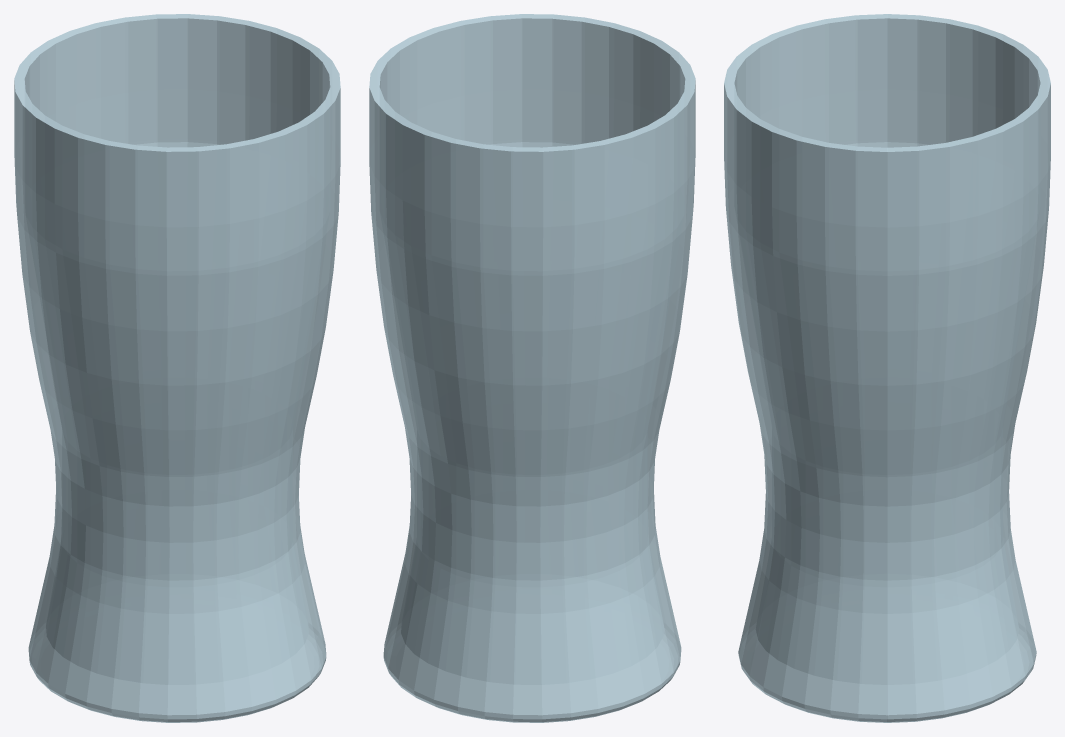
File: PintCup.dae
3 views of the same model, side by side, from view 1: azimuth 30°, elevation 25°; view 2: azimuth 150°, elevation 25°; view 3: azimuth 270°, elevation 25° (orthographic).
Visible parts, largest first — view 1: Cylinder.005; view 2: Cylinder.005; view 3: Cylinder.005.
Boxes of the visible parts, left/top/right/bottom form: Cylinder.005: left=14, top=14, right=340, bottom=722; Cylinder.005: left=369, top=14, right=695, bottom=722; Cylinder.005: left=724, top=14, right=1050, bottom=722.
Size of the model in its own units: 0.076 by 0.076 by 0.149.
